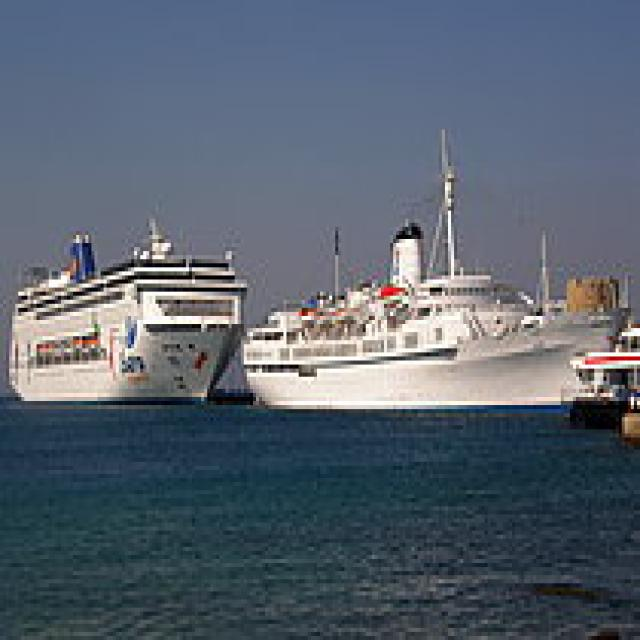Cruise: (235, 122, 628, 413), (0, 194, 247, 397)
